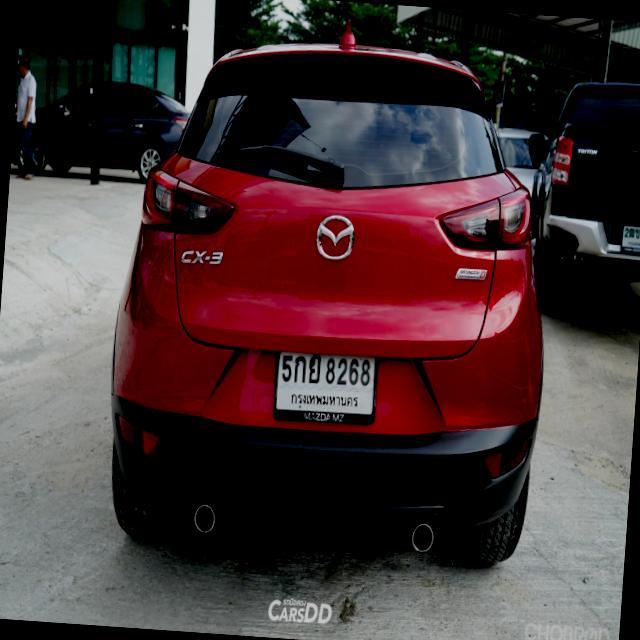license_plate: (269, 341, 382, 426)
